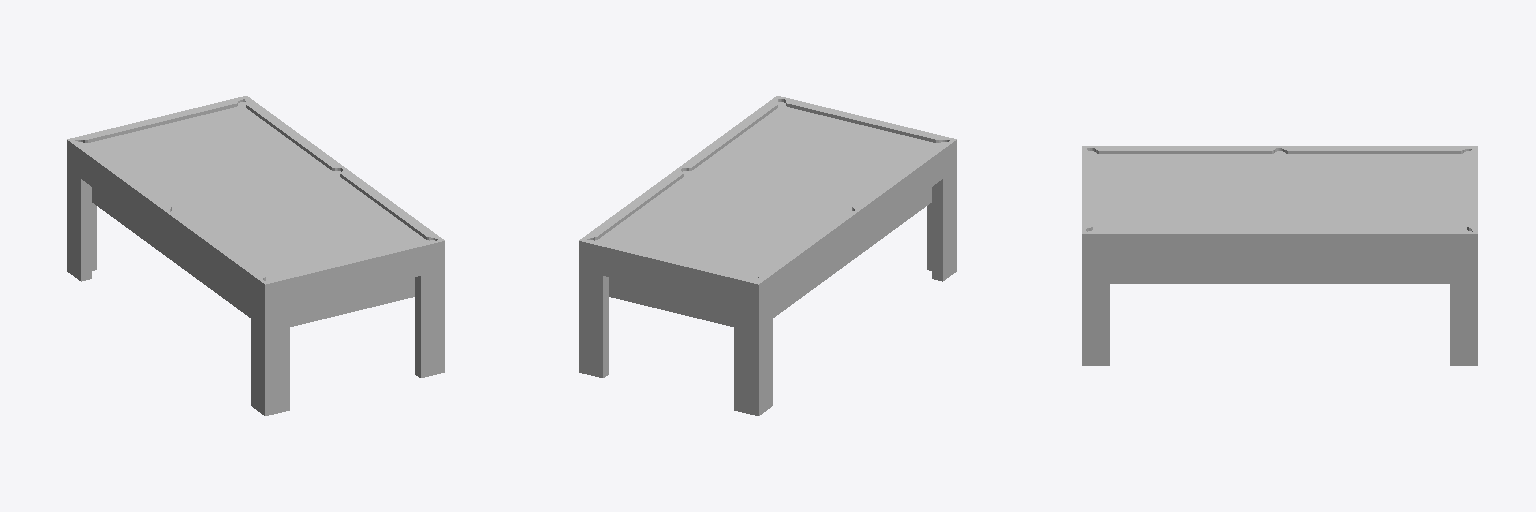
The model's file is Pool table.obj.
3 views of the same model, side by side, from view 1: azimuth 30°, elevation 25°; view 2: azimuth 150°, elevation 25°; view 3: azimuth 270°, elevation 25° (orthographic).
Visible parts, largest first — view 1: Box002, Rectangle001, L_Ext003, L_Ext001, L_Ext004, Rectangle003; view 2: Box002, Rectangle001, L_Ext004, L_Ext002, L_Ext003, Rectangle003; view 3: Box002, Rectangle001, L_Ext001, L_Ext002, Rectangle003.
Boxes of the visible parts, x1,y1,x2,y2 form: Box002: [67, 102, 444, 326]; Rectangle001: [67, 96, 444, 287]; L_Ext003: [251, 304, 289, 415]; L_Ext001: [415, 270, 444, 377]; L_Ext004: [67, 169, 96, 281]; Rectangle003: [83, 102, 428, 277]; Box002: [579, 102, 956, 326]; Rectangle001: [579, 96, 956, 287]; L_Ext004: [734, 304, 772, 415]; L_Ext002: [579, 270, 608, 377]; L_Ext003: [927, 169, 956, 281]; Rectangle003: [595, 102, 940, 277]; Box002: [1082, 151, 1477, 283]; Rectangle001: [1082, 146, 1477, 236]; L_Ext001: [1082, 263, 1109, 365]; L_Ext002: [1450, 263, 1477, 365]; Rectangle003: [1091, 150, 1468, 230].
Size of the model in its own units: 110 by 77 by 210.